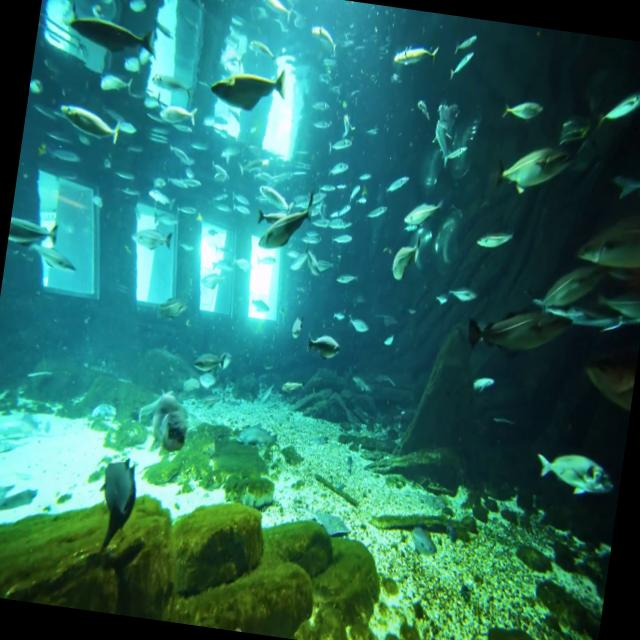fish: (458, 298, 573, 366), (488, 129, 574, 197), (208, 56, 288, 120), (64, 12, 162, 64), (530, 448, 624, 502), (258, 186, 316, 258), (60, 96, 124, 146)
